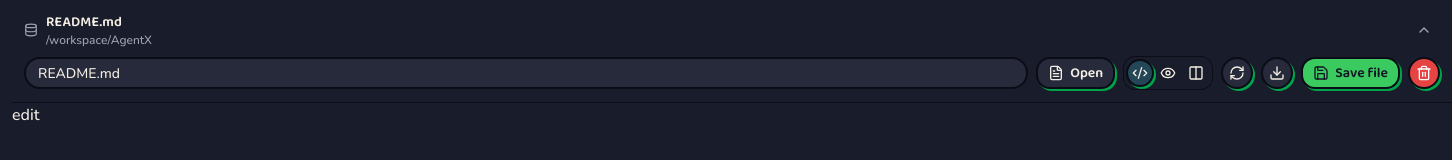
Scenario: WorkspaceFileEditorPane markdown controls › switches markdown view modes from the toolbar
This screenshot has width=1452, height=160.
Click the button named "Preview Markdown" at x=1168, y=73, box [1154, 59, 1182, 87]
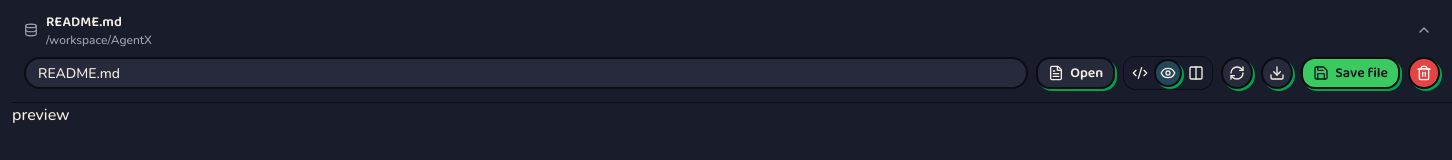
Expected: the text with test id "mock-workspace-file-editor" reads "preview", [12, 104, 70, 126]
Click the button named "Split Markdown view" at x=1196, y=73, box [1182, 59, 1210, 87]
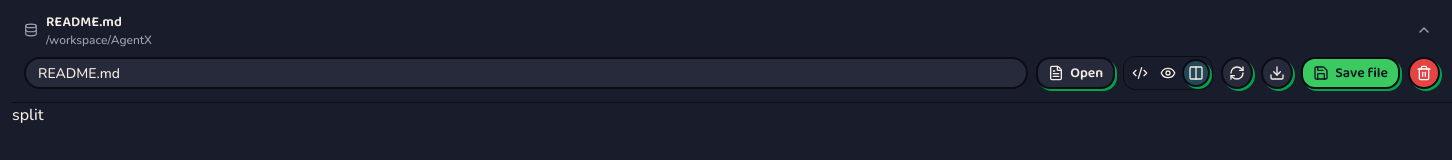
Expected: the text with test id "mock-workspace-file-editor" reads "split", [12, 104, 44, 126]
